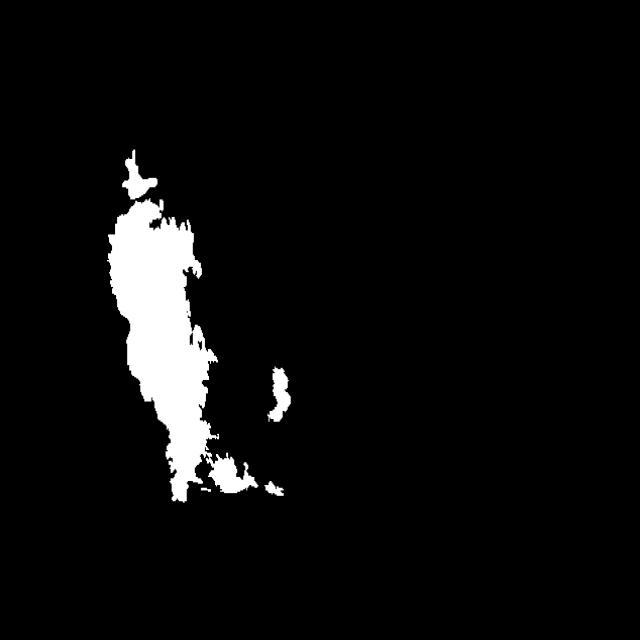fire: (86, 139, 300, 515)
